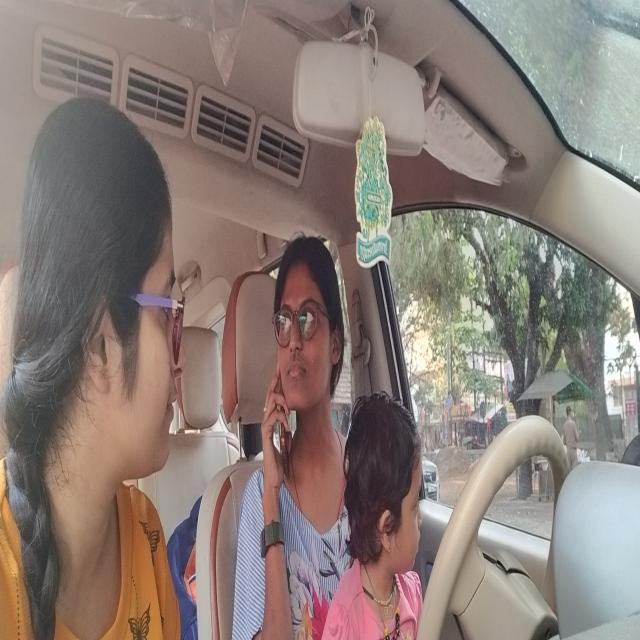child: (12, 76, 187, 529), (343, 385, 425, 579)
person: (276, 227, 348, 424)
